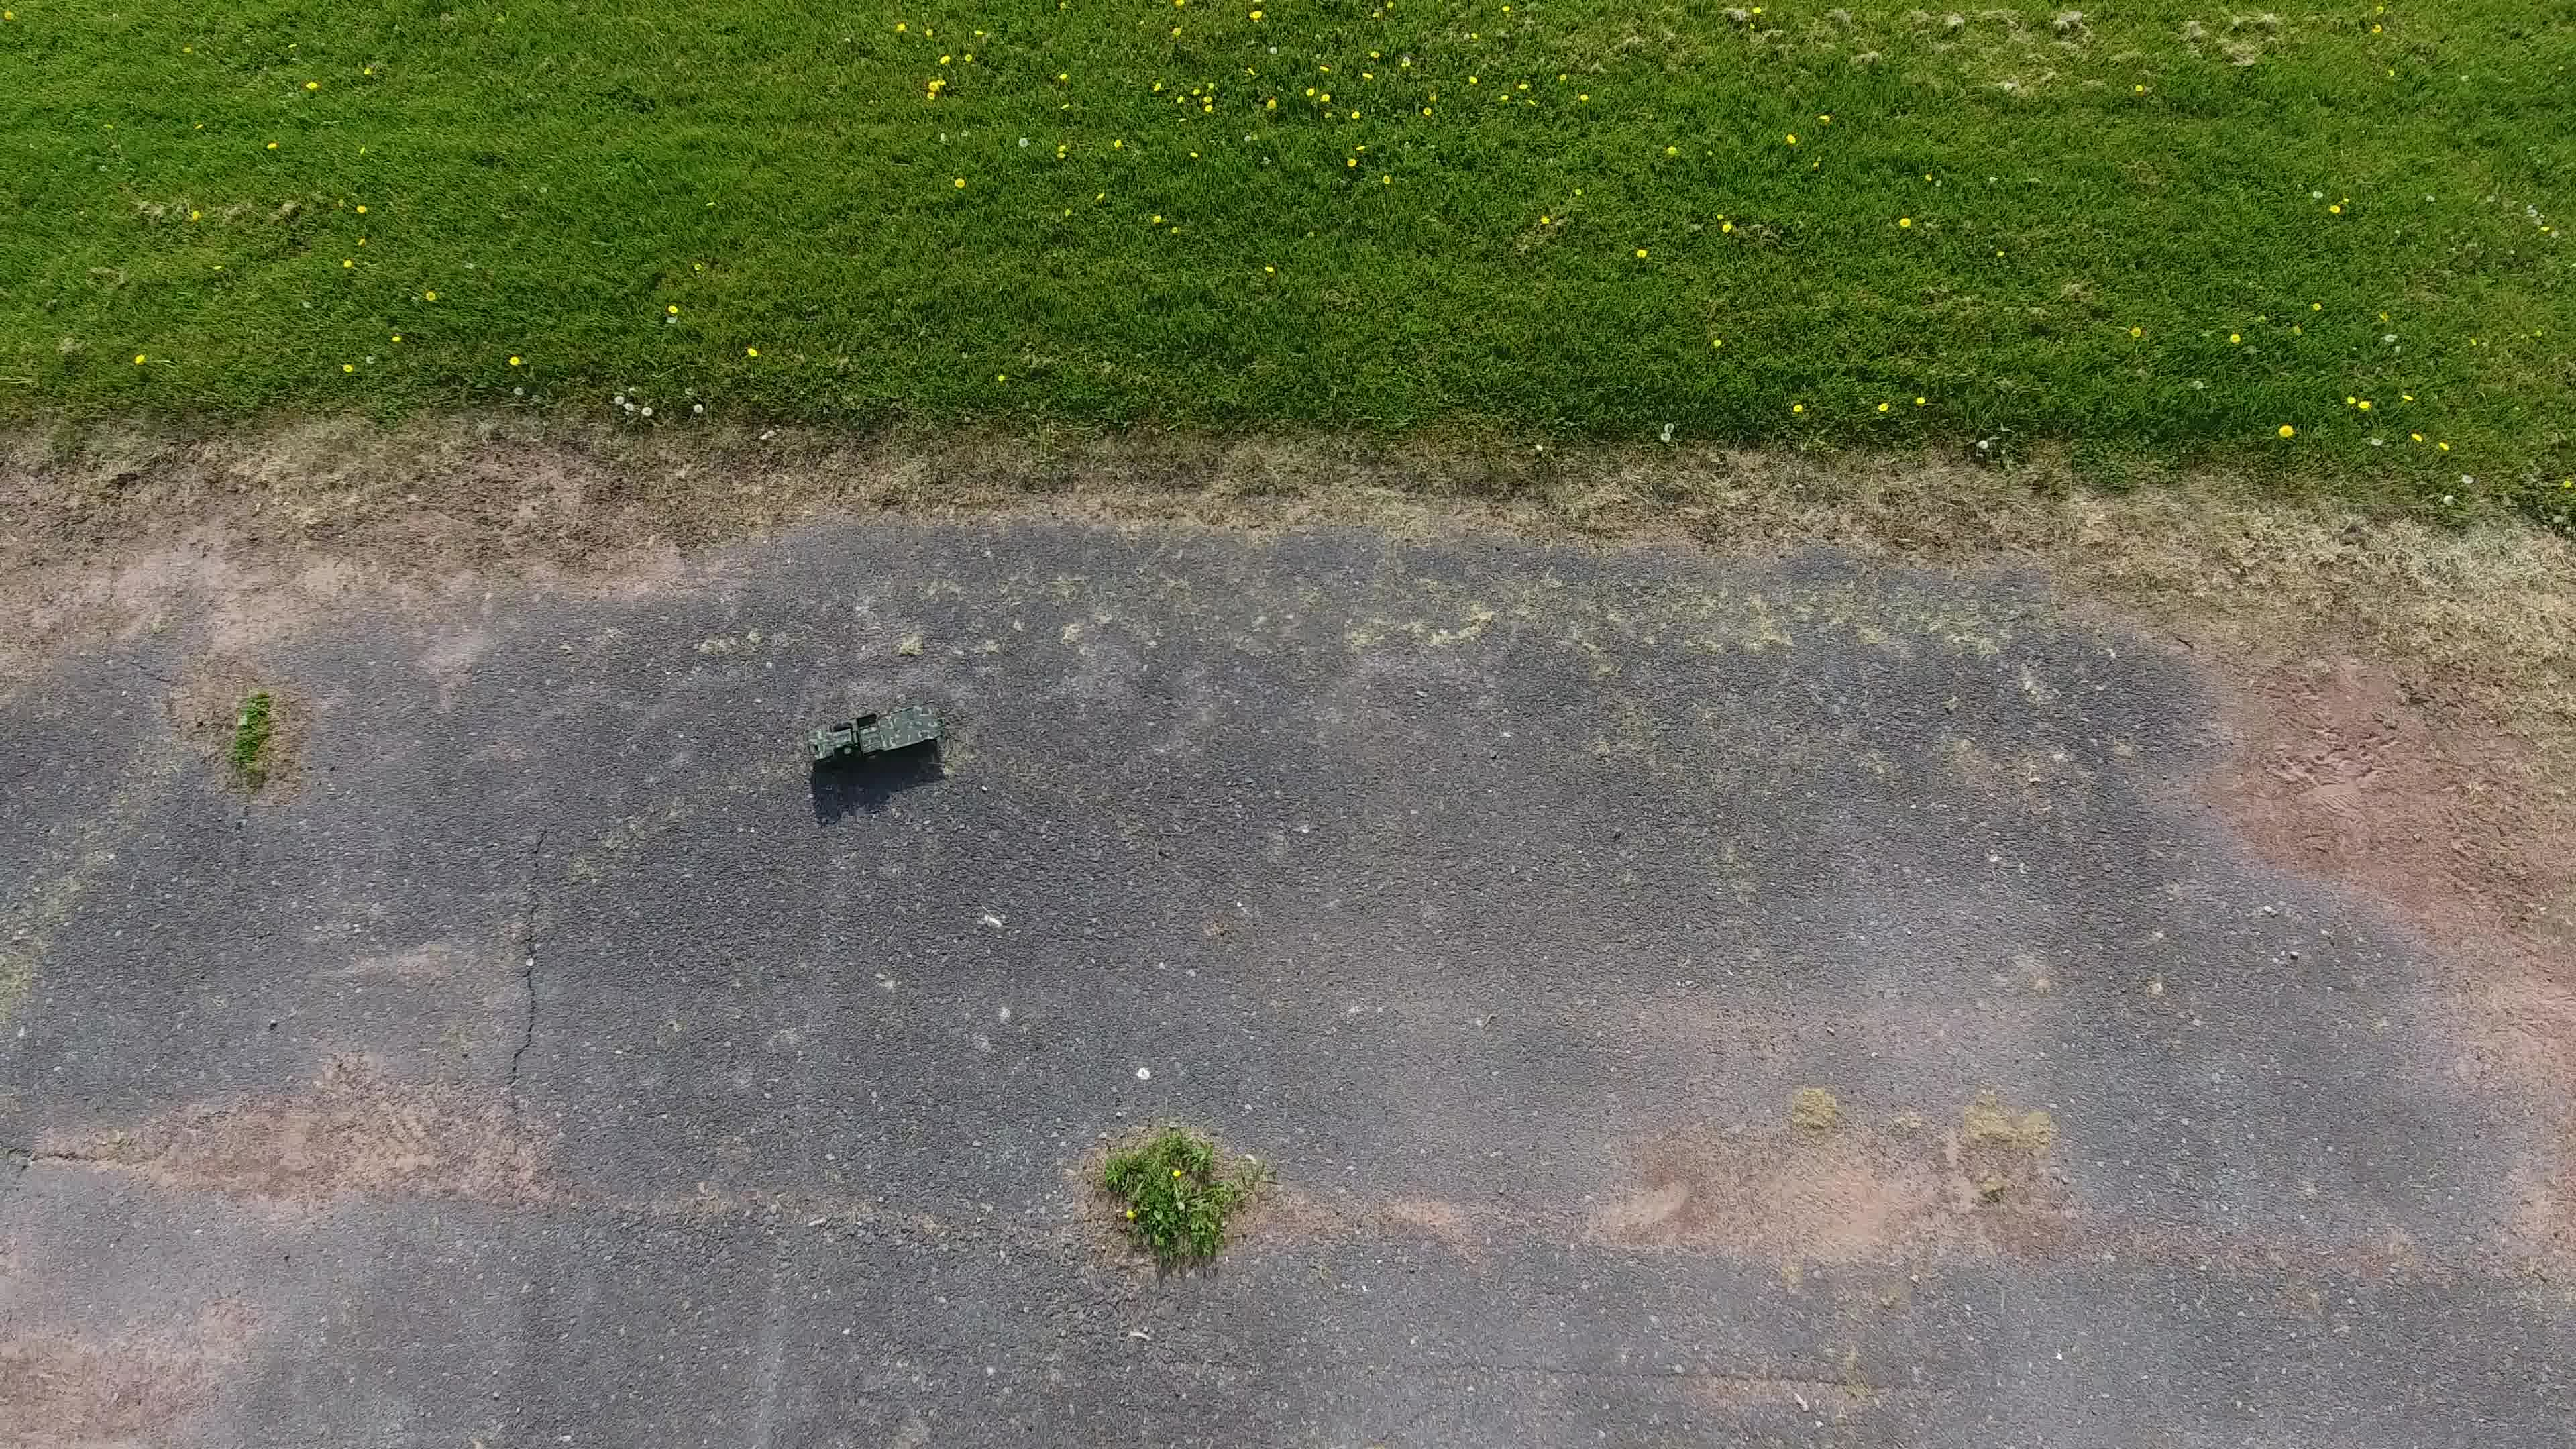transporter9_camo: (807, 697, 945, 777)
